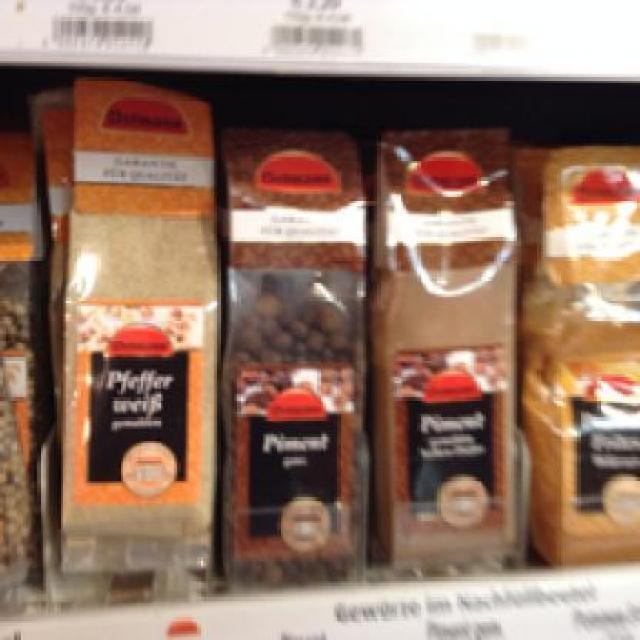Spices: (54, 74, 220, 577), (371, 120, 524, 569), (220, 120, 369, 577), (528, 140, 638, 563)
